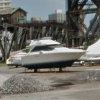Boat: (8, 34, 88, 75)
